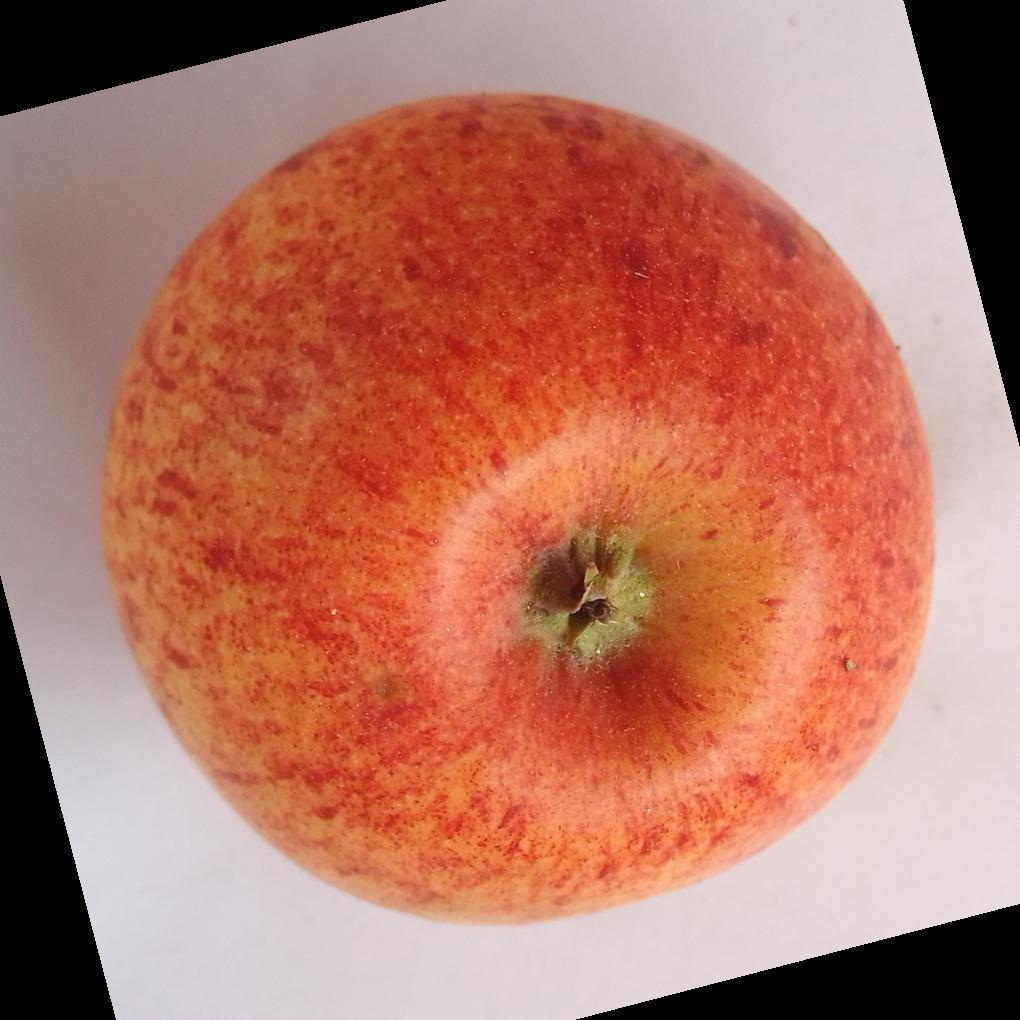FreshGuava: (96, 93, 938, 932)
